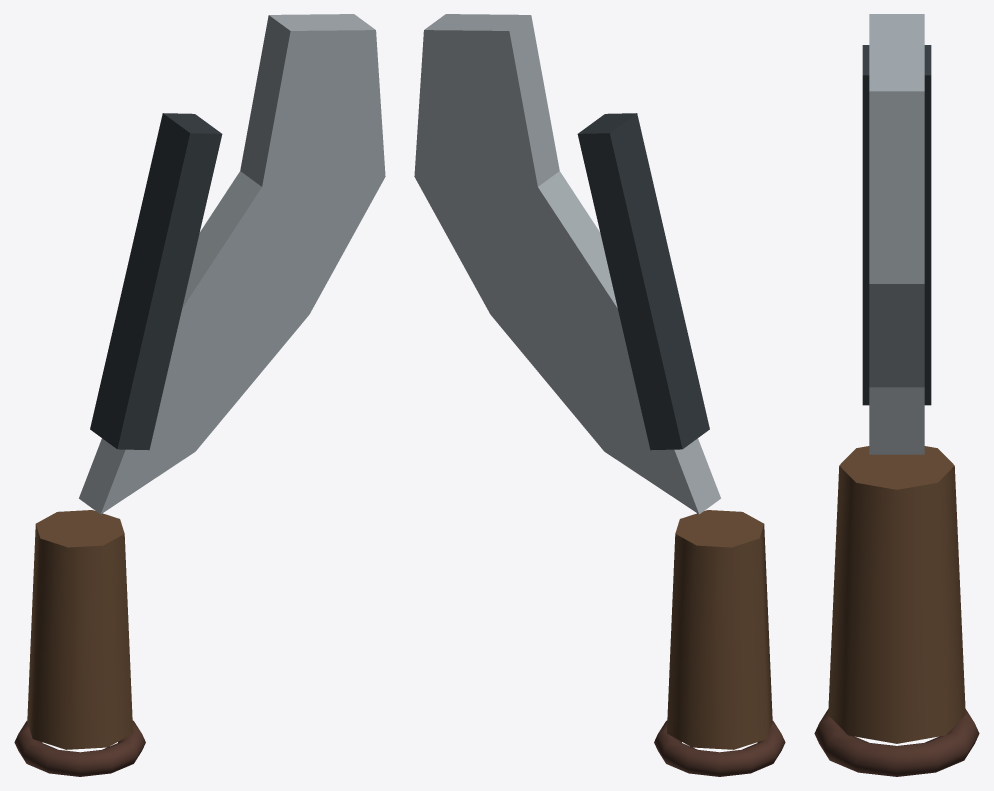
File: sickle.glb
The picture shows the model from 3 angles, left to right: view 1: azimuth 30°, elevation 25°; view 2: azimuth 150°, elevation 25°; view 3: azimuth 270°, elevation 25°; orthographic projection. The views are drawn at different scales.
Parts seen in each view (by area): view 1: sickle-blade, sickle-grip, sickle-spine, sickle-pommel; view 2: sickle-blade, sickle-grip, sickle-spine, sickle-pommel; view 3: sickle-grip, sickle-blade, sickle-spine, sickle-pommel.
Part boxes in pixels (bbox=[...]): sickle-blade: bbox=[79, 14, 385, 514]; sickle-grip: bbox=[27, 510, 132, 749]; sickle-spine: bbox=[90, 113, 222, 450]; sickle-pommel: bbox=[14, 720, 145, 776]; sickle-blade: bbox=[414, 14, 720, 514]; sickle-grip: bbox=[667, 510, 772, 749]; sickle-spine: bbox=[577, 113, 709, 450]; sickle-pommel: bbox=[654, 720, 785, 776]; sickle-grip: bbox=[828, 446, 965, 743]; sickle-blade: bbox=[869, 14, 924, 454]; sickle-spine: bbox=[862, 45, 931, 405]; sickle-pommel: bbox=[814, 709, 979, 776].
Bounding box in the file's own units: 0.37 × 0.687 × 0.12.
